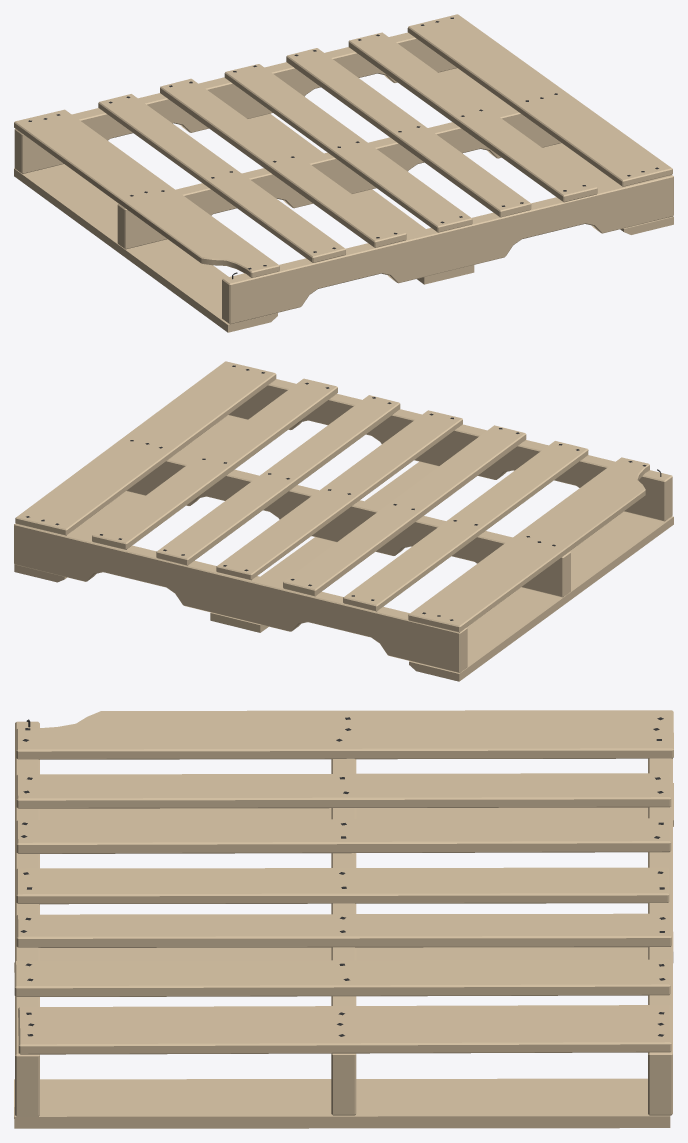
Rendered from Kit_Pallet.fbx.
3 views of the same model, one above another, from view 1: azimuth 30°, elevation 25°; view 2: azimuth 150°, elevation 25°; view 3: azimuth 270°, elevation 25° (orthographic). The views are drawn at different scales.
Visible parts, largest first — view 1: Kit_Pallet_LOD0; view 2: Kit_Pallet_LOD0; view 3: Kit_Pallet_LOD0.
Part boxes in pixels (<box>): Kit_Pallet_LOD0: <box>14,14,673,332</box>; Kit_Pallet_LOD0: <box>14,361,673,681</box>; Kit_Pallet_LOD0: <box>14,710,673,1128</box>.
Size of what is drawn, in the model's own units: 1.21 by 0.144 by 1.
